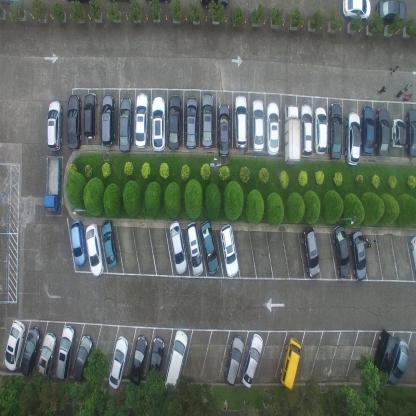car: (371, 328, 398, 386), (165, 328, 189, 391), (241, 332, 263, 389), (4, 317, 26, 372), (279, 337, 301, 390), (108, 336, 129, 390), (200, 218, 220, 274), (146, 337, 166, 393), (219, 222, 239, 277), (36, 332, 56, 387), (20, 327, 42, 377), (223, 336, 245, 386), (43, 155, 62, 212), (283, 103, 301, 163), (388, 338, 410, 386), (56, 326, 75, 381), (85, 222, 104, 277), (301, 224, 320, 279), (332, 223, 350, 280), (170, 219, 188, 274), (186, 221, 204, 276), (72, 336, 93, 383), (344, 110, 361, 166), (130, 334, 148, 386), (350, 229, 367, 281), (101, 220, 119, 269), (46, 100, 63, 150), (151, 96, 166, 152), (328, 102, 342, 162), (67, 93, 81, 152), (134, 92, 149, 147), (250, 98, 265, 153), (118, 96, 132, 154), (376, 0, 407, 26), (299, 102, 313, 159), (101, 93, 115, 149), (234, 94, 248, 150), (266, 102, 280, 156), (168, 94, 181, 152), (70, 220, 86, 266), (201, 93, 214, 149), (83, 91, 98, 139), (376, 106, 390, 156), (314, 106, 328, 154), (342, 0, 371, 23), (361, 105, 374, 155), (186, 96, 198, 149), (218, 102, 229, 159), (405, 108, 416, 158), (391, 117, 405, 149), (198, 0, 230, 10), (410, 234, 416, 278)
